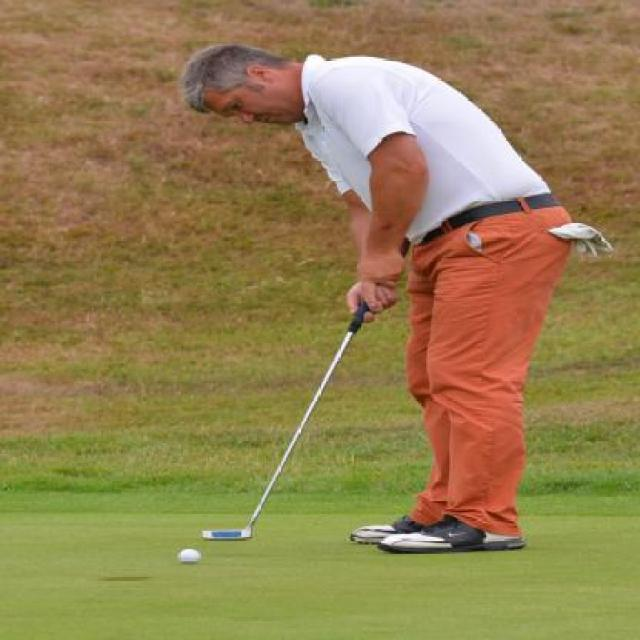club head: (199, 525, 259, 542)
